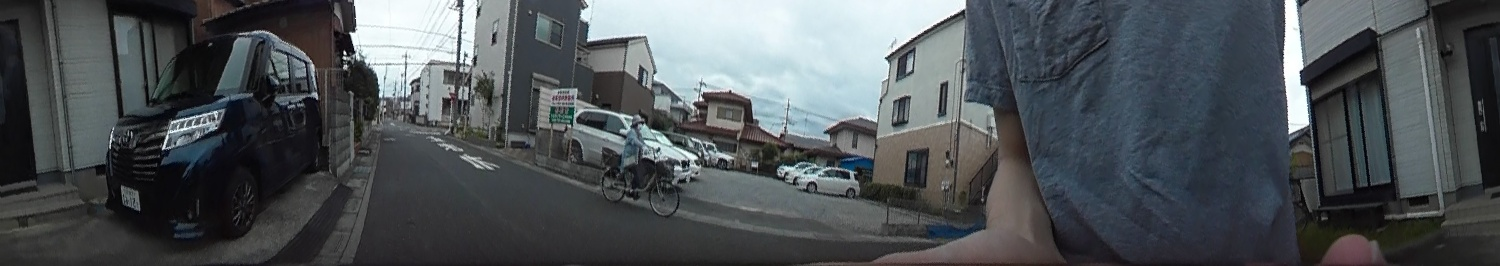person: (623, 111, 656, 198)
